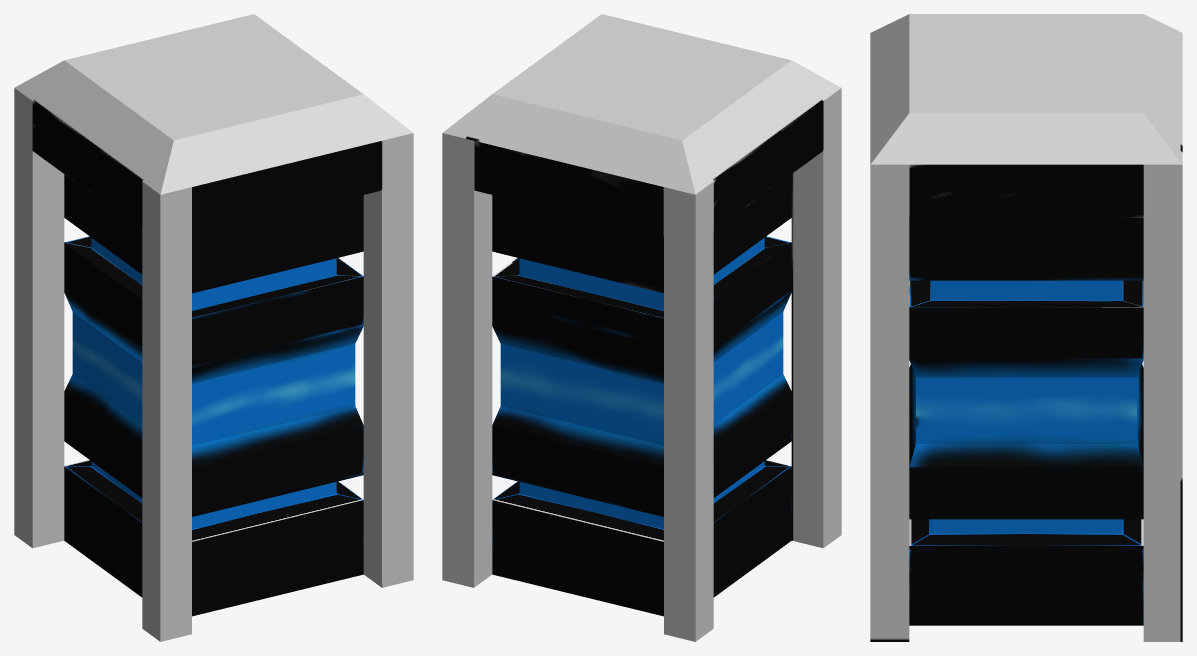
The model's file is tower01.obj.glb.
The picture shows the model from 3 angles, left to right: view 1: azimuth 30°, elevation 25°; view 2: azimuth 150°, elevation 25°; view 3: azimuth 270°, elevation 25°; orthographic projection. The views are drawn at different scales.
Parts seen in each view (by area): view 1: Asset3DLoader.sceneRoot; view 2: Asset3DLoader.sceneRoot; view 3: Asset3DLoader.sceneRoot.
Boxes of the visible parts, bbox=[...] form: Asset3DLoader.sceneRoot: bbox=[14, 14, 413, 641]; Asset3DLoader.sceneRoot: bbox=[442, 14, 841, 641]; Asset3DLoader.sceneRoot: bbox=[870, 14, 1182, 641].
Bounding box in the file's own units: 8 × 14.5 × 8.
Materials: 1 (1 with a texture image).
